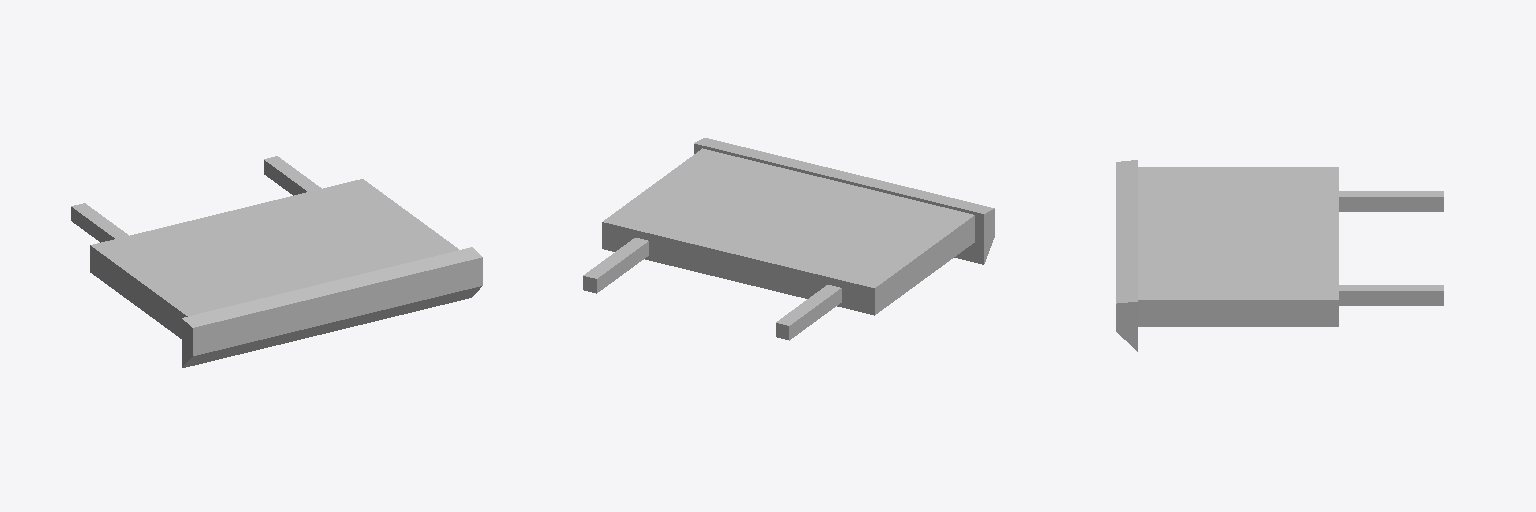
Rendered from board.obj.
3 views of the same model, side by side, from view 1: azimuth 30°, elevation 25°; view 2: azimuth 150°, elevation 25°; view 3: azimuth 270°, elevation 25° (orthographic).
Visible parts, largest first — view 1: Cube; view 2: Cube; view 3: Cube.
Part boxes in pixels (x1,y1,x2,y2): Cube: (71,156,482,367); Cube: (583,138,994,340); Cube: (1116,160,1443,351).
Size of the model in its own units: 2.13 by 0.3552 by 2.08.